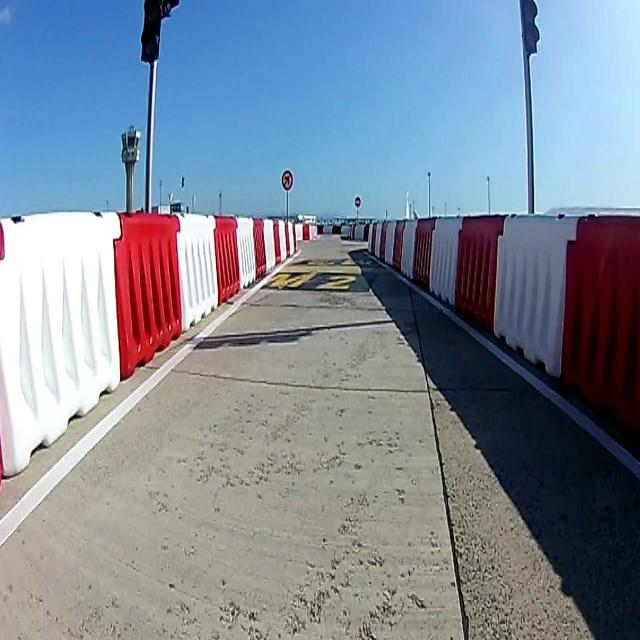soladonulmez: (281, 171, 293, 190)
